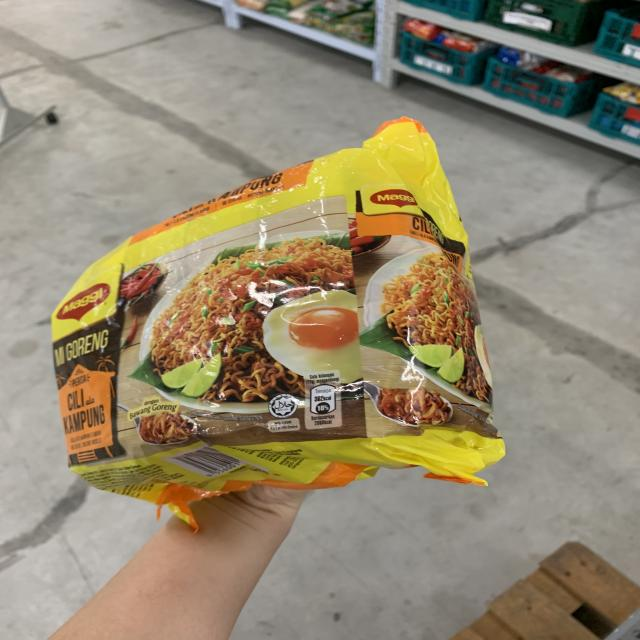object_name: (47, 228, 487, 474)
